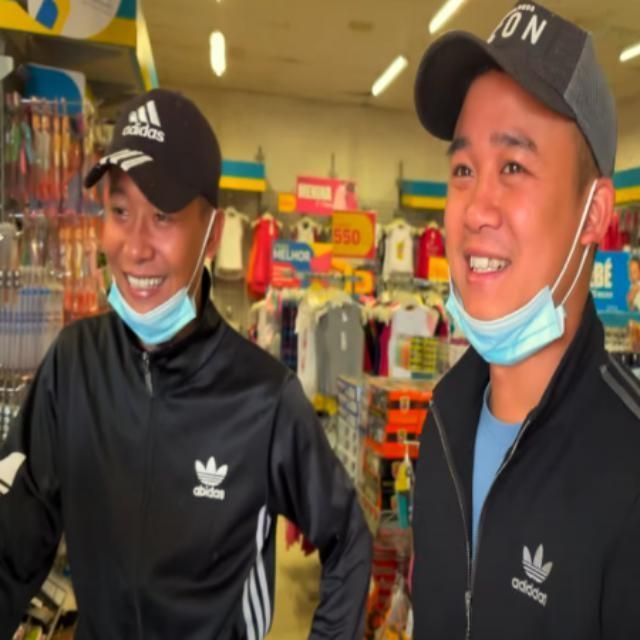hairnet: (446, 130, 570, 360), (106, 186, 198, 346)
